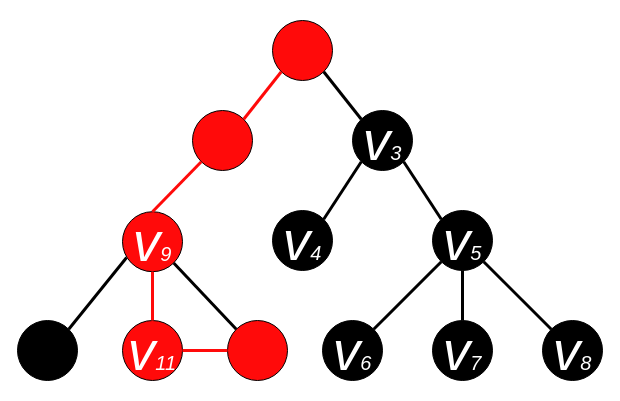
Some shapes in this 620 by 401 pixel diagram are drawn without their labels. The shapes that lost their labels are listed below. From the top down, each one's centre as x and y in pixels, then its label:
At [302,50]: "v 1".
At [222,140]: "v 2".
At [47,350]: "v 10".
At [257,350]: "v 12".
